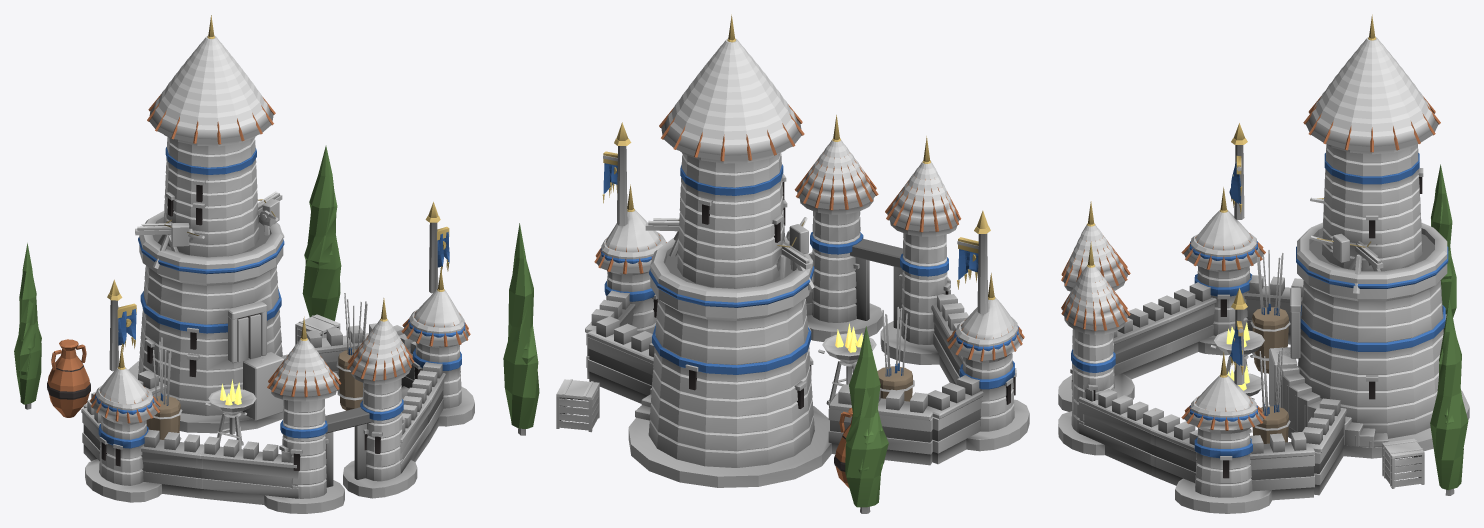
The model's file is defense-tower-l3.glb.
3 views of the same model, side by side, from view 1: azimuth 30°, elevation 25°; view 2: azimuth 150°, elevation 25°; view 3: azimuth 270°, elevation 25° (orthographic). The views are drawn at different scales.
Visible parts, largest first — view 1: defense-tower-l3; view 2: defense-tower-l3; view 3: defense-tower-l3.
Boxes of the visible parts, box(x1,y1,x2,y2) form: defense-tower-l3: box(14, 15, 474, 513); defense-tower-l3: box(503, 14, 1029, 513); defense-tower-l3: box(1058, 14, 1469, 513).
Bounding box in the file's own units: 1.58 × 1.54 × 1.42.
